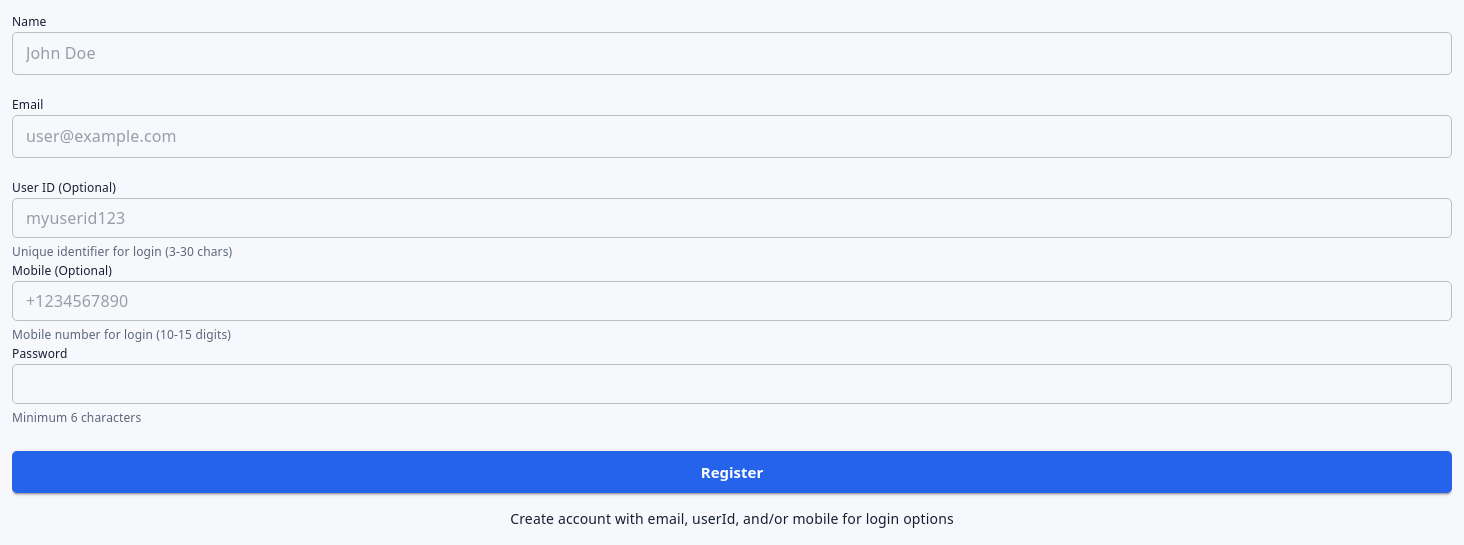
Test case: AuthRegisterForm › shows required validation errors and does not submit invalid values
Click the button "Register" at (732, 472), box [12, 451, 1452, 493]
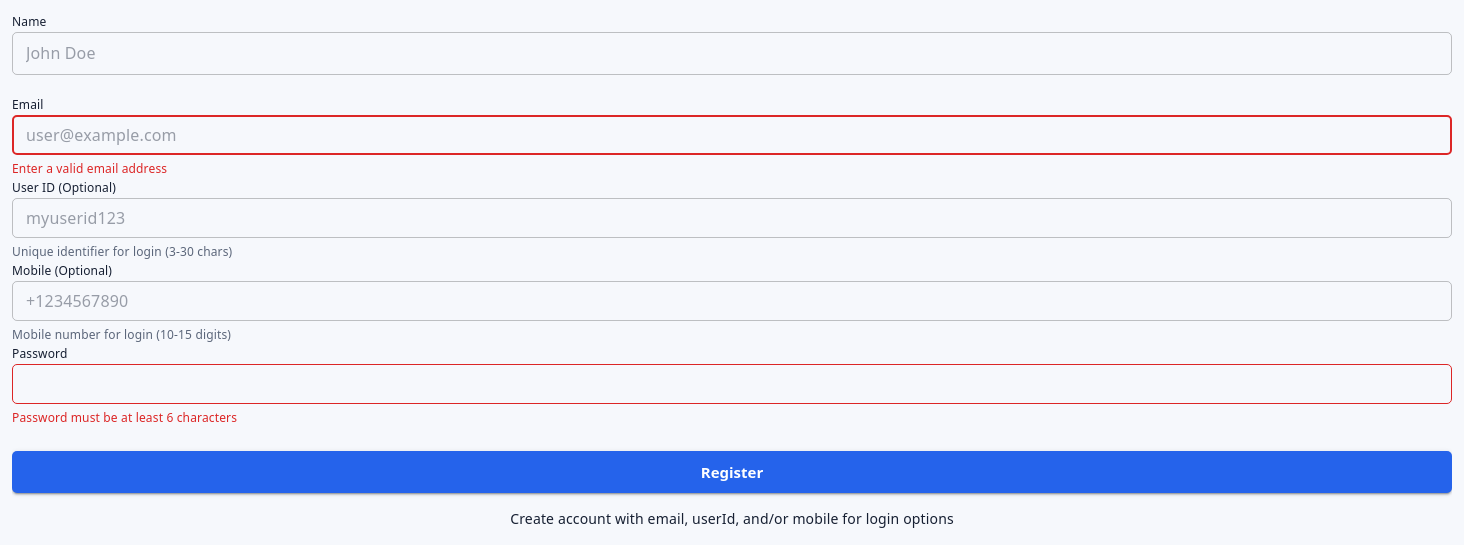
Now the text "Enter a valid email address" is shown, box [12, 160, 167, 177]
Now the text "Password must be at least 6 characters" is shown, box [12, 409, 237, 426]
